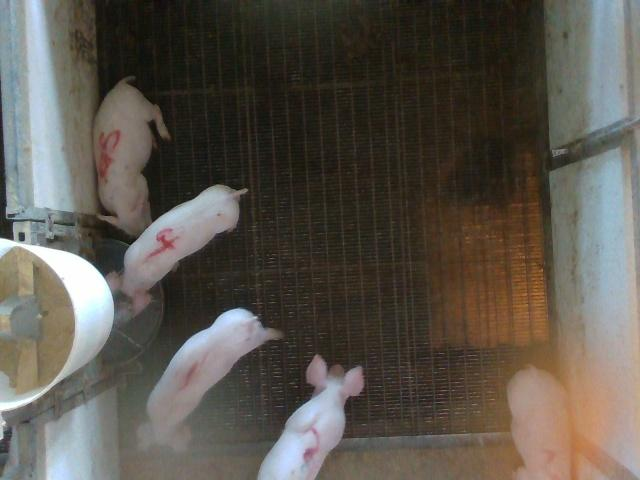pig-1: (138, 309, 282, 451)
pig-3: (258, 355, 364, 479)
pig-4: (106, 185, 246, 314)
pig-5: (94, 76, 170, 236)
